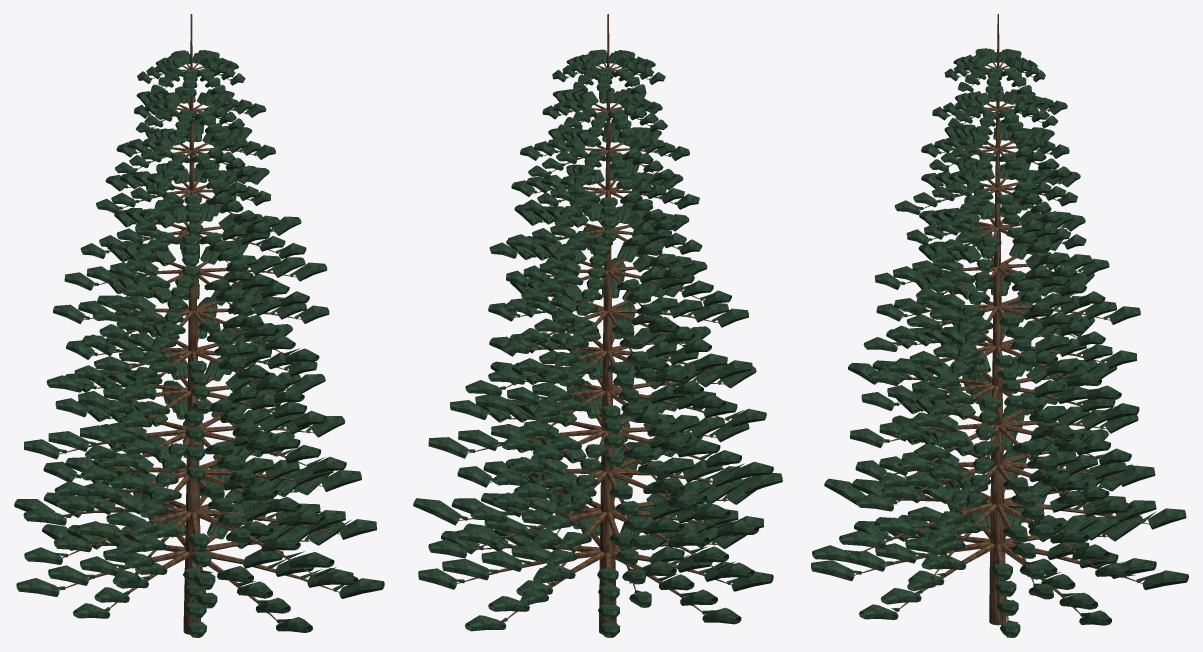
Rendered from spruce.obj.
3 renders of one model, left to right at view 1: azimuth 30°, elevation 25°; view 2: azimuth 150°, elevation 25°; view 3: azimuth 270°, elevation 25°, orthographic.
Visible parts, largest first — view 1: sakkola_spruce_dense_crown; view 2: sakkola_spruce_dense_crown; view 3: sakkola_spruce_dense_crown.
Boxes of the visible parts, x1,y1,x2,y2 form: sakkola_spruce_dense_crown: (14, 14, 384, 637); sakkola_spruce_dense_crown: (413, 14, 782, 637); sakkola_spruce_dense_crown: (811, 14, 1188, 637).
Bounding box in the file's own units: 9.62 × 17.4 × 9.82.
Materials: 2 (2 with a texture image).
